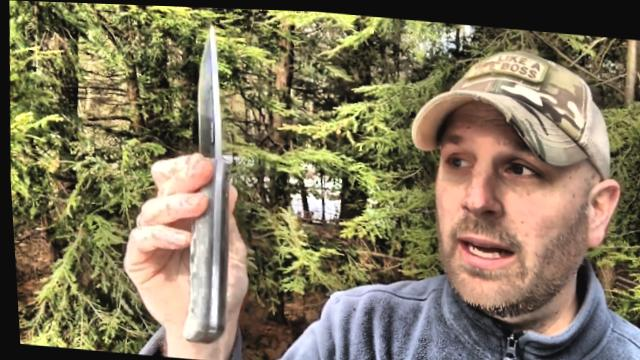knife: (105, 10, 256, 255)
